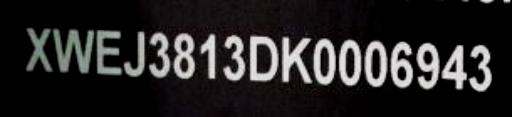letter: (50, 27, 96, 74), (280, 33, 314, 84), (246, 33, 280, 82), (466, 41, 494, 94), (94, 27, 124, 76), (388, 40, 416, 91), (413, 40, 441, 91), (23, 26, 53, 73), (439, 43, 469, 90), (146, 28, 172, 79), (336, 36, 362, 87), (363, 38, 389, 89), (171, 30, 197, 79), (310, 37, 336, 86), (222, 31, 246, 82), (122, 28, 146, 77), (198, 32, 218, 81)
